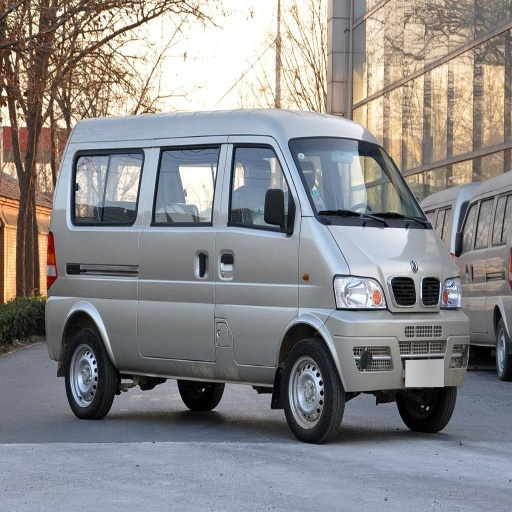front_bumper: (332, 320, 469, 390)
front_glass: (288, 138, 426, 227)
front_left_door: (140, 310, 218, 358)
front_right_door: (213, 141, 299, 309)
front_right_light: (337, 276, 384, 310)
hood: (327, 226, 446, 278)
trunk: (50, 279, 167, 366), (189, 297, 292, 368)
